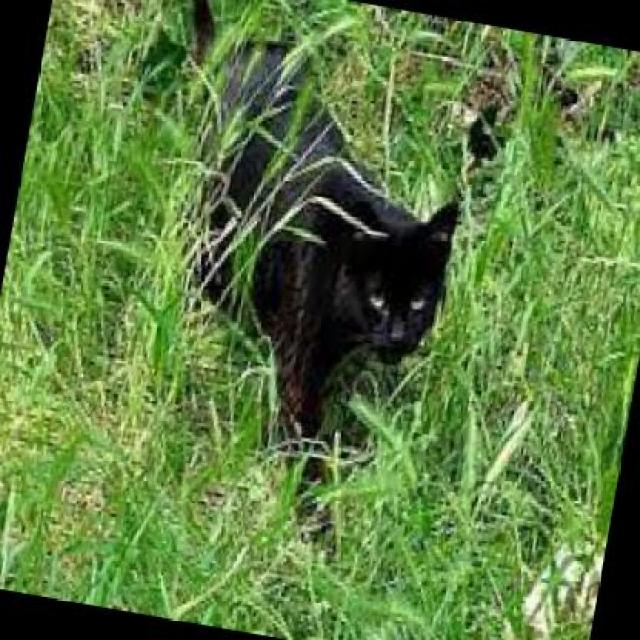animals: (98, 14, 502, 460)
